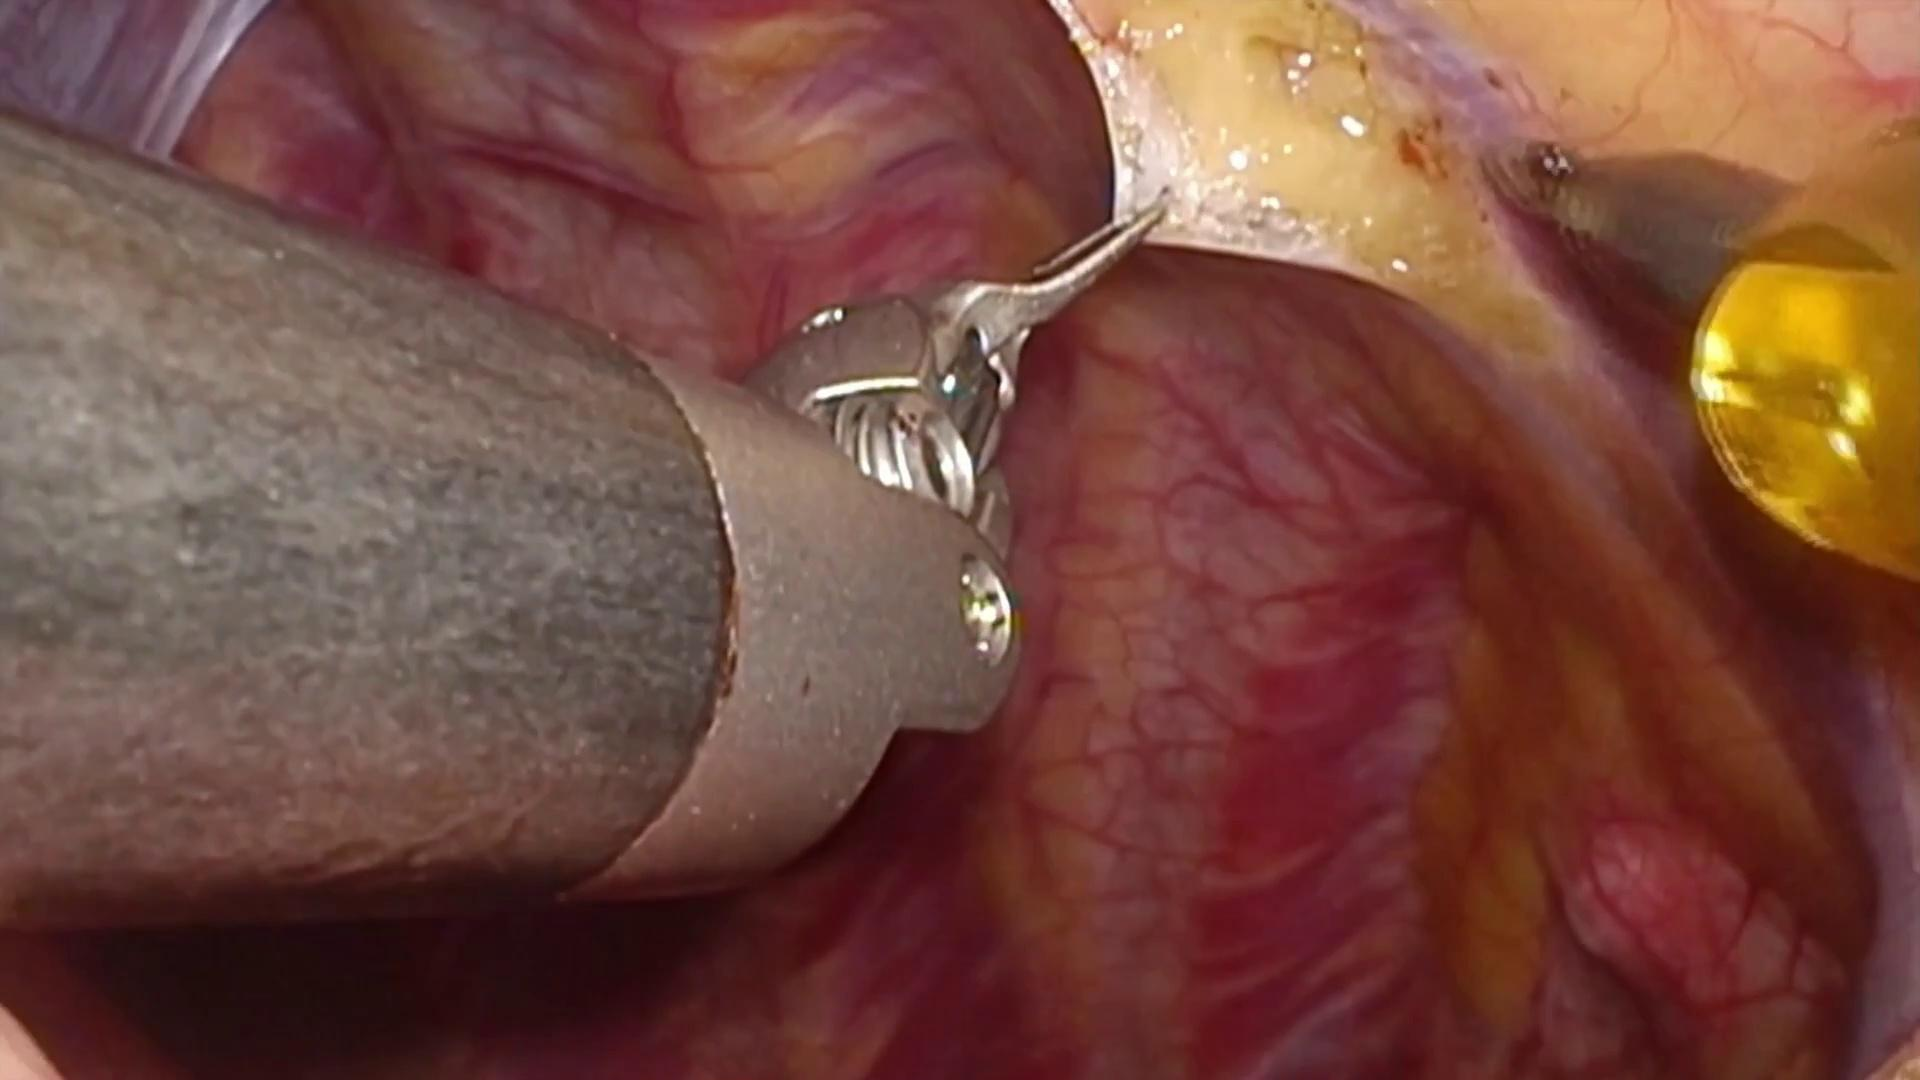Cautery_Spatula: (1474, 120, 1821, 344)
Debakey: (913, 177, 1184, 422)
